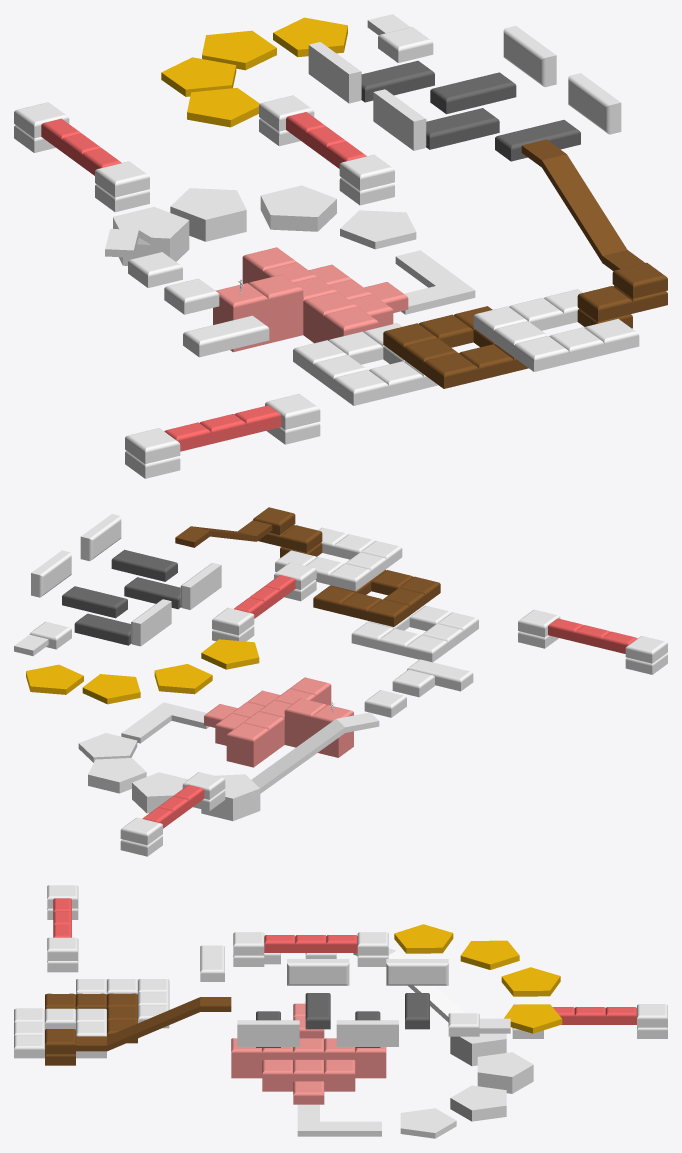
Rendered from Level02.fbx.
3 renders of one model, top to bottom at view 1: azimuth 30°, elevation 25°; view 2: azimuth 150°, elevation 25°; view 3: azimuth 270°, elevation 25°, orthographic. The views are drawn at different scales.
Parts seen in each view (by area): view 1: Layer 03, Object 145, Object 139, Object 181, Object 194, Object 192, Object 189, Object 134, Object 132, Object 137, Object 142, Object 140 (+49 smaller); view 2: Layer 03, Object 184, Object 144, Object 139, Object 132, Object 134, Object 133, Object 131, Object 194, Object 143, Object 142, Object 192 (+41 smaller); view 3: Layer 03, Object 145, Object 143, Object 142, Object 137, Object 140, Object 134, Object 132, Object 133, Object 189, Object 192, Object 194 (+37 smaller).
Part boxes in pixels (bbox=[...]): Layer 03: bbox=[213, 247, 408, 352]; Object 145: bbox=[521, 139, 627, 262]; Object 139: bbox=[430, 72, 516, 114]; Object 181: bbox=[183, 315, 269, 357]; Object 194: bbox=[260, 185, 336, 224]; Object 192: bbox=[340, 210, 416, 249]; Object 189: bbox=[170, 188, 246, 227]; Object 134: bbox=[187, 88, 259, 127]; Object 132: bbox=[202, 30, 276, 70]; Object 137: bbox=[308, 42, 361, 103]; Object 142: bbox=[373, 89, 426, 150]; Object 140: bbox=[503, 25, 556, 87]; Layer 03: bbox=[204, 677, 353, 767]; Object 184: bbox=[251, 712, 379, 793]; Object 144: bbox=[111, 549, 177, 581]; Object 139: bbox=[62, 586, 127, 618]; Object 132: bbox=[82, 674, 140, 704]; Object 134: bbox=[201, 639, 259, 669]; Object 133: bbox=[154, 664, 212, 694]; Object 131: bbox=[26, 664, 83, 694]; Object 194: bbox=[88, 758, 146, 787]; Object 143: bbox=[80, 514, 121, 561]; Object 142: bbox=[180, 563, 221, 609]; Object 192: bbox=[78, 733, 137, 762]; Layer 03: bbox=[231, 1003, 386, 1104]; Object 145: bbox=[107, 997, 231, 1051]; Object 143: bbox=[237, 1020, 299, 1046]; Object 142: bbox=[287, 959, 349, 985]; Object 137: bbox=[386, 959, 448, 985]; Object 140: bbox=[336, 1020, 398, 1046]; Object 134: bbox=[394, 924, 453, 953]; Object 132: bbox=[501, 967, 560, 996]; Object 133: bbox=[460, 940, 519, 969]; Object 189: bbox=[477, 1052, 533, 1082]; Object 192: bbox=[400, 1108, 456, 1138]; Object 194: bbox=[450, 1085, 506, 1115].
Size of the model in its own units: 85.67 by 105 by 27.
